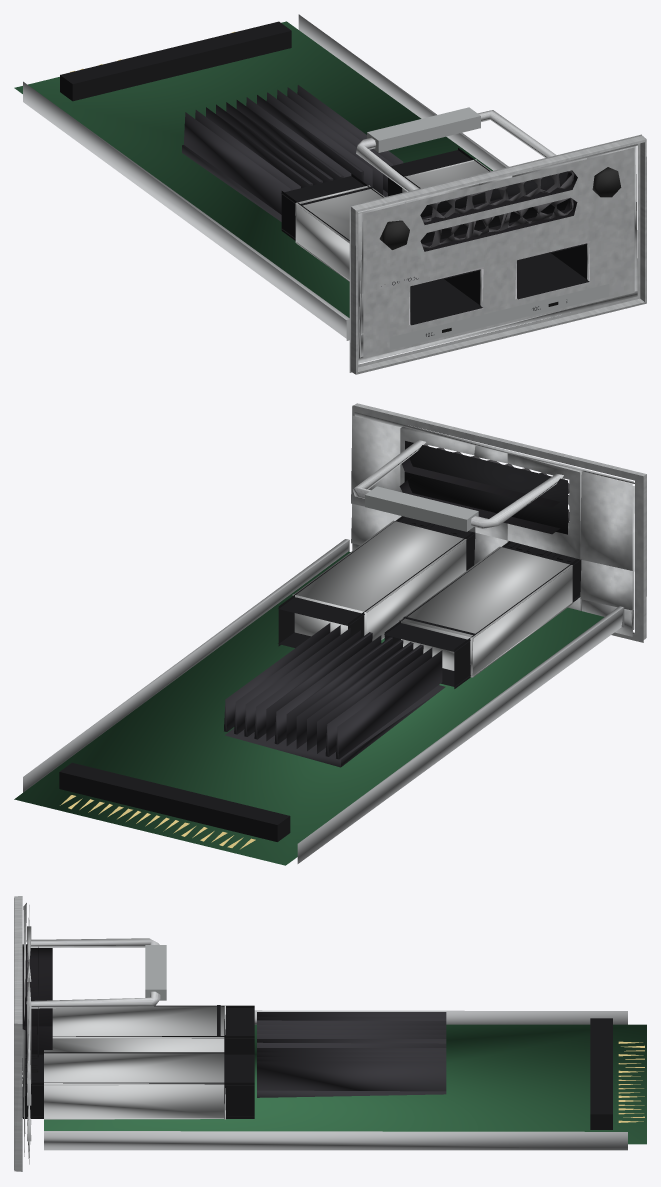
Rendered from C3850-NM-2-40G.far.glb.
The picture shows the model from 3 angles, top to bottom: view 1: azimuth 30°, elevation 25°; view 2: azimuth 150°, elevation 25°; view 3: azimuth 270°, elevation 25°; orthographic projection. The views are drawn at different scales.
Visible parts, largest first — view 1: Body_far; view 2: Body_far; view 3: Body_far.
Boxes of the visible parts, x1,y1,x2,y2 form: Body_far: [14, 14, 646, 374]; Body_far: [14, 403, 646, 865]; Body_far: [14, 896, 646, 1171].
Size of the model in its own units: 0.0802 by 0.0438 by 0.1672.
5 materials, 4 textured.
